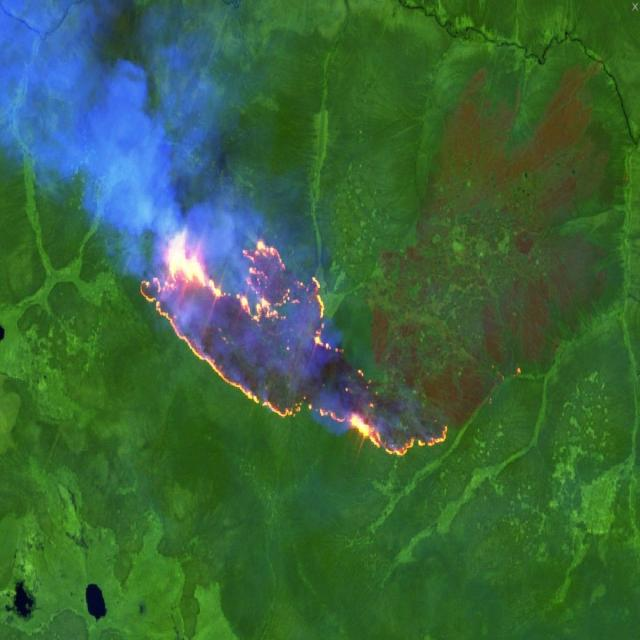fire: (138, 230, 451, 461)
